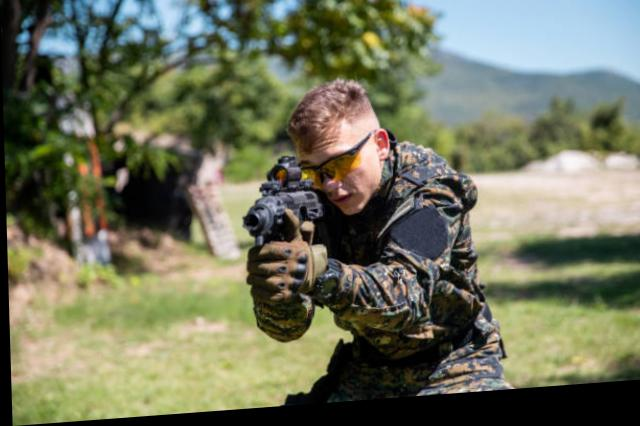other: (243, 82, 501, 409)
